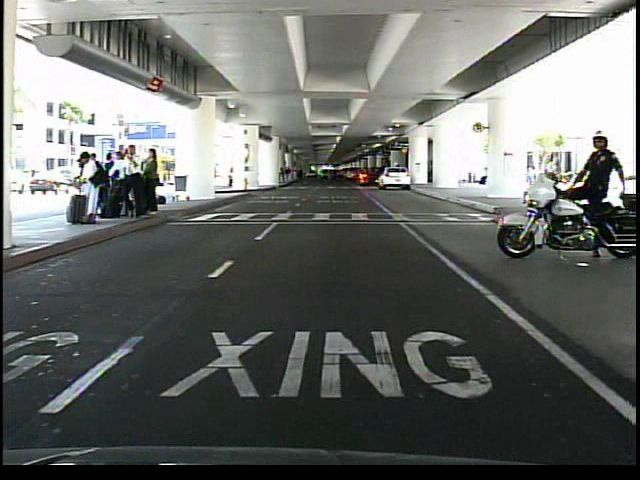person: (569, 128, 623, 264), (478, 160, 492, 192)
